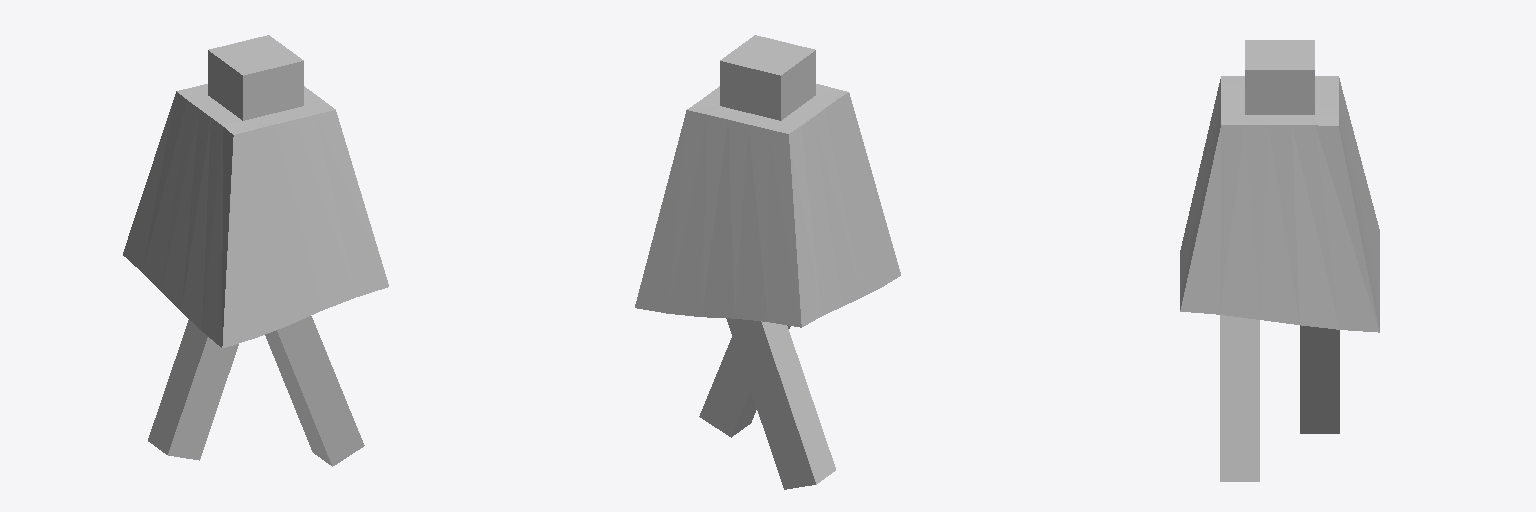
Rendered from essai_000016.obj.
3 views of the same model, side by side, from view 1: azimuth 30°, elevation 25°; view 2: azimuth 150°, elevation 25°; view 3: azimuth 270°, elevation 25° (orthographic).
Parts seen in each view (by area): view 1: Cube; view 2: Cube; view 3: Cube.
Part boxes in pixels (x1,y1,x2,y2): Cube: (123,35,388,466); Cube: (635,35,900,489); Cube: (1180,40,1379,481).
Size of the model in its own units: 1.96 by 4.44 by 2.